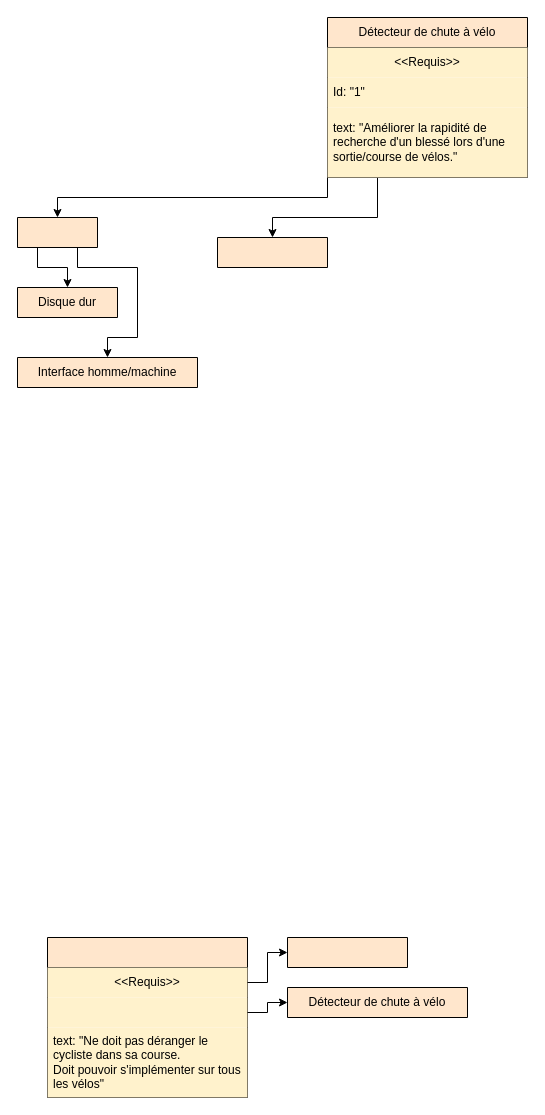
Image size: 545x1115. Some labels were removed from this diagram. The shapes that lost their labels are listed below. From the top down, each one's box as (x1, y1, x2, y2) in pixels, then its label:
(16, 216, 98, 248): Serveur
(216, 236, 328, 268): Capteur GPS
(286, 936, 408, 968): Être éco-conçu
(47, 997, 247, 1027): Id: "1.0.1"
(46, 936, 248, 1098): Support
